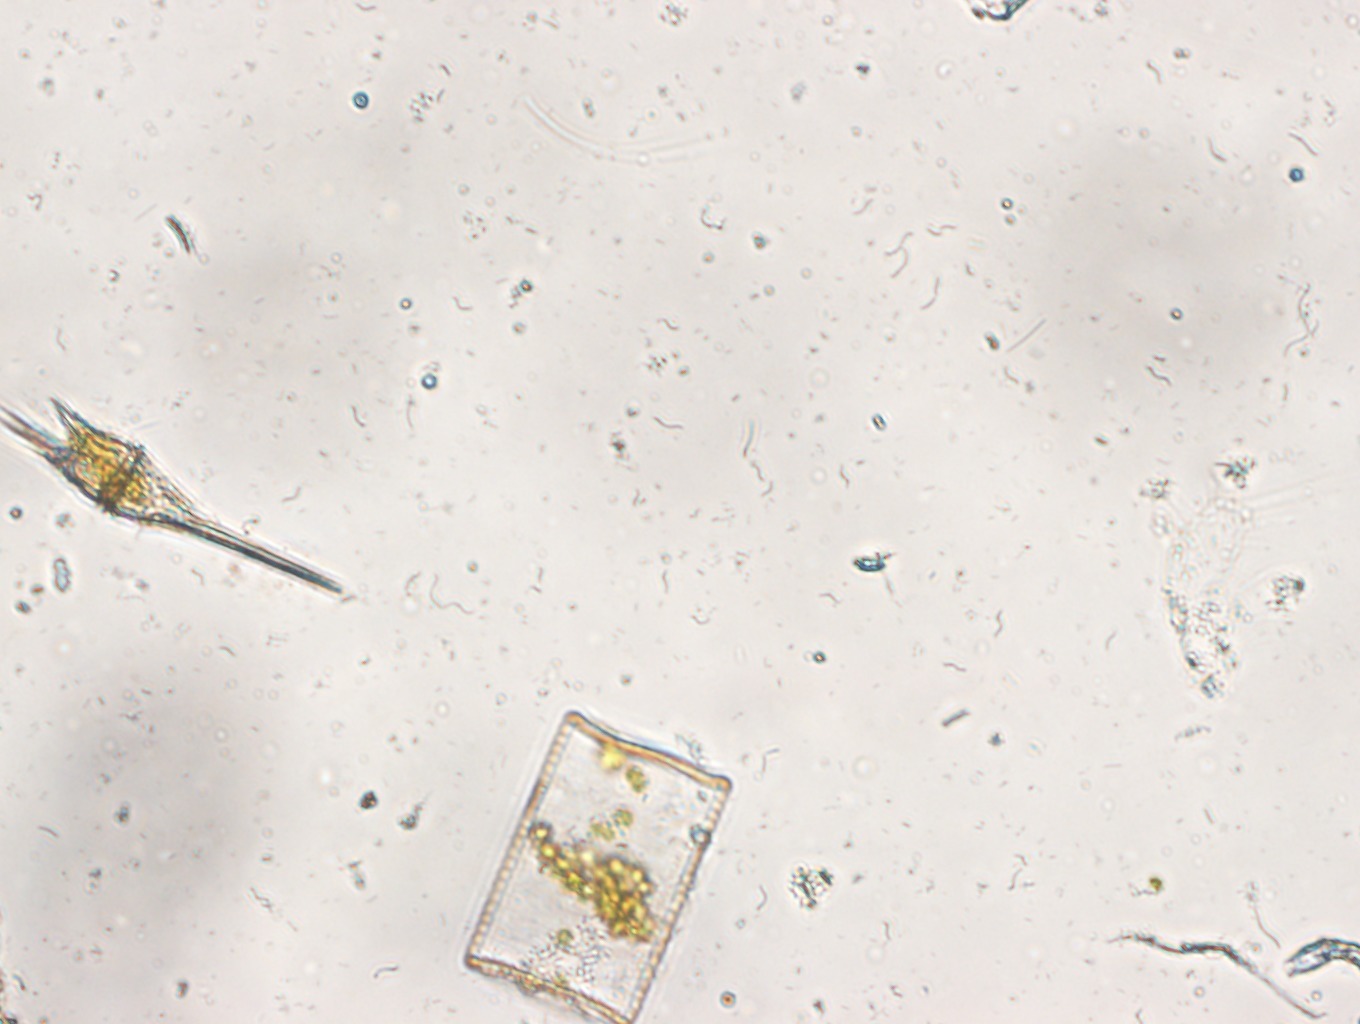ceratium furca: (2, 386, 343, 605)
guinardia flaccida: (452, 693, 739, 1024)
